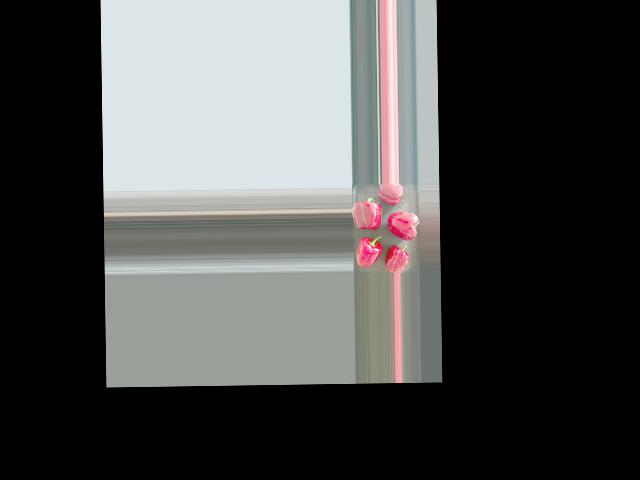bell_pepper: (376, 183, 408, 206)
